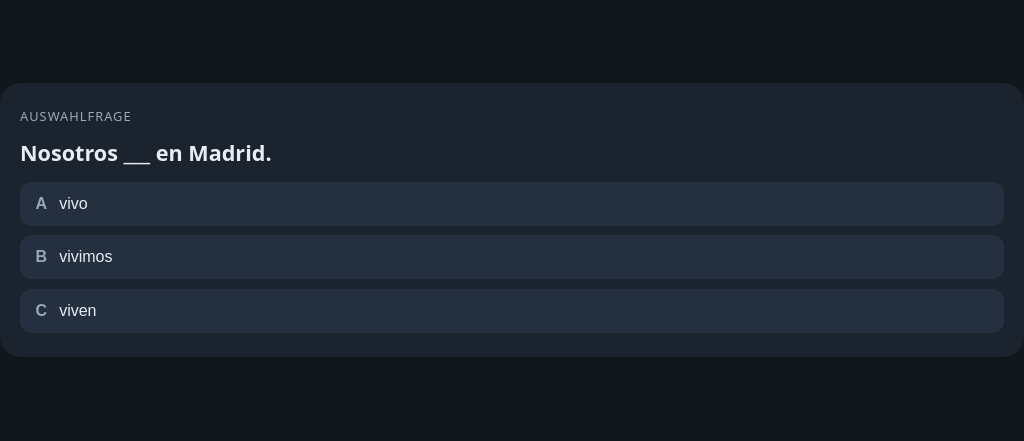
Scenario: ChoiceCard › kennzeichnet nach einer falschen Wahl falsche und richtige Antwort und zeigt die Erklärung
The width and height of the screenshot is (1024, 441).
Later steps or results of the test are not shown.
Expected: the text "nosotros → -imos" is not shown
Click the button "A vivo".
click(41, 203)  # box [20,182,1004,226]
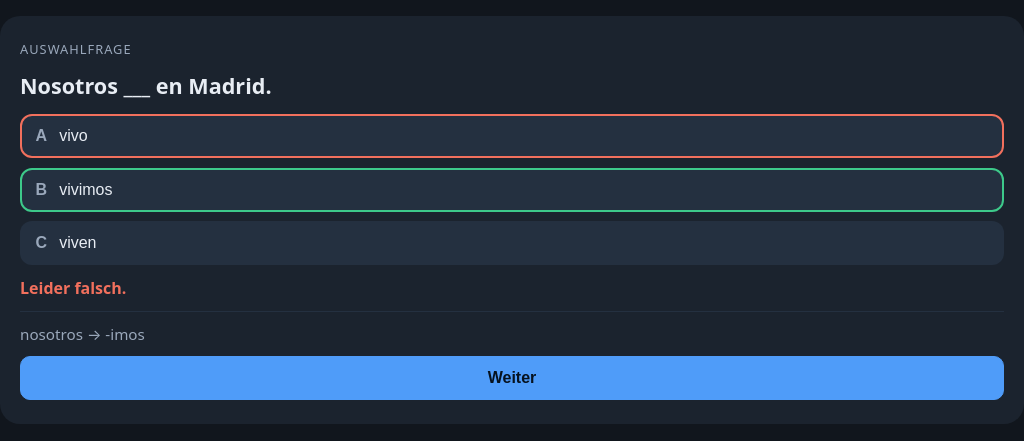
Now the text "Leider falsch." is shown, box [20,277,126,299]
Now the text "nosotros → -imos" is shown, box [20,311,1004,344]
